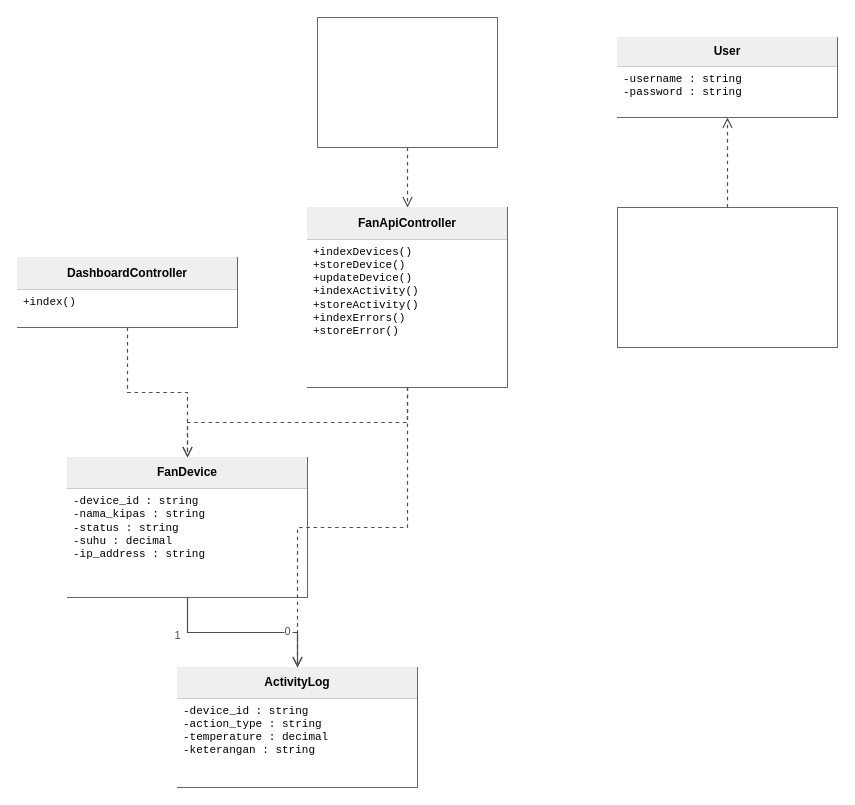
This 855x805 diagram has some shape labels left out. The box of each missing label's shape, as (x1, y1, x2, y2) in pixels:
AuthController +showLogin() +login() +showSignup() +signup() +logout(): (616, 206, 838, 348)
SmartFan +setup() +loop() +connectWifi() +connectMqtt() +setFan(): (316, 16, 498, 148)
